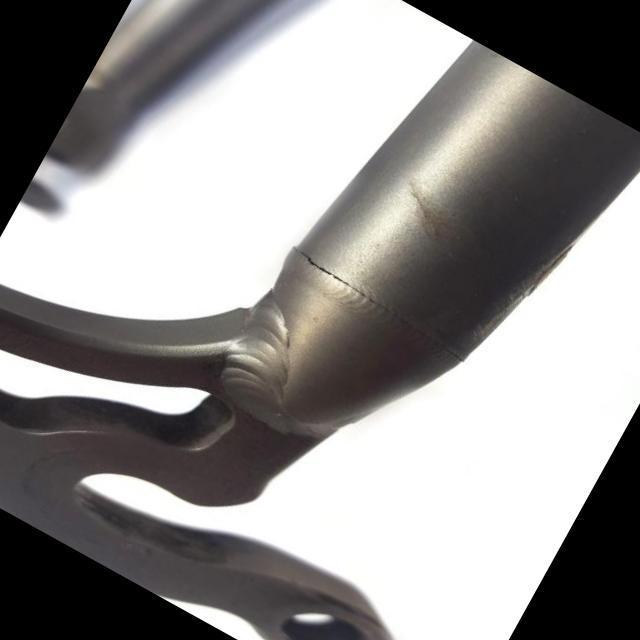defect: (289, 244, 466, 364)
